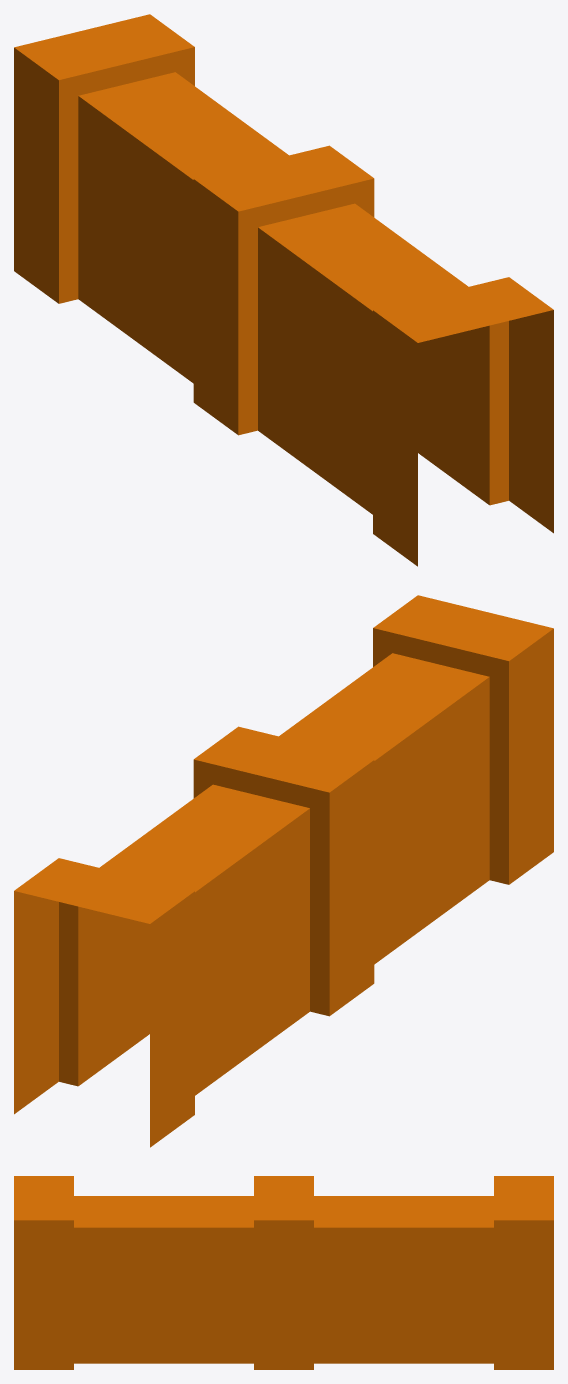
Rendered from sideWall.fbx.
3 views of the same model, one above another, from view 1: azimuth 30°, elevation 25°; view 2: azimuth 150°, elevation 25°; view 3: azimuth 270°, elevation 25° (orthographic). The views are drawn at different scales.
Visible parts, largest first — view 1: StraightWall6; view 2: StraightWall6; view 3: StraightWall6.
Boxes of the visible parts, x1=… form: StraightWall6: x1=14, y1=14, x2=553, y2=566; StraightWall6: x1=14, y1=595, x2=553, y2=1147; StraightWall6: x1=14, y1=1176, x2=553, y2=1369.
Bounding box in the file's own units: 7 × 11 × 36.
